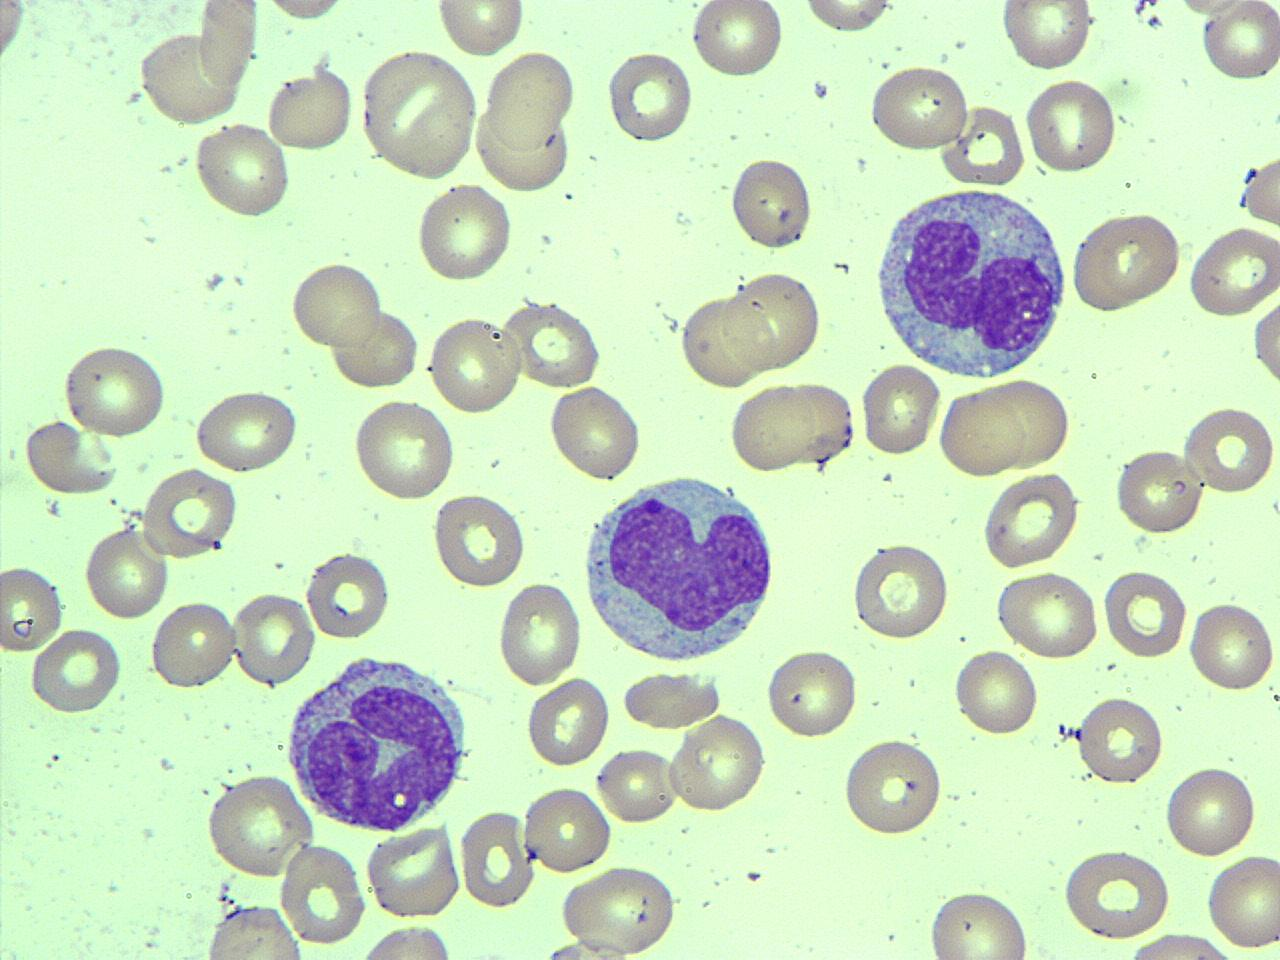RBC: (358, 45, 480, 182), (1069, 208, 1185, 316), (725, 378, 855, 474), (205, 770, 316, 881), (349, 396, 459, 504), (558, 862, 680, 956), (59, 341, 171, 439), (1059, 844, 1173, 940), (849, 538, 952, 642), (135, 28, 244, 127), (722, 268, 824, 372), (412, 182, 516, 284), (666, 711, 768, 816), (842, 736, 946, 838), (978, 469, 1082, 570), (427, 312, 526, 418), (545, 382, 647, 484), (190, 119, 293, 220), (495, 577, 586, 689), (480, 47, 577, 152), (990, 570, 1101, 659), (1022, 74, 1118, 177), (431, 488, 530, 588), (139, 464, 240, 562), (865, 63, 973, 153), (365, 820, 463, 920), (1163, 760, 1261, 860), (190, 387, 303, 473), (764, 644, 862, 742), (502, 297, 605, 390), (277, 841, 368, 946), (263, 55, 357, 156), (603, 46, 695, 146), (1185, 223, 1280, 320), (303, 546, 396, 644), (1185, 596, 1277, 696), (1182, 401, 1276, 498), (287, 258, 385, 351), (472, 105, 572, 194), (80, 524, 170, 622), (1075, 692, 1167, 788), (148, 596, 238, 694), (728, 153, 816, 252), (858, 358, 944, 459), (27, 626, 122, 718), (230, 588, 316, 688), (936, 384, 1025, 481), (524, 673, 612, 770), (520, 784, 613, 875), (1113, 445, 1205, 536), (951, 644, 1040, 740), (984, 376, 1074, 469), (1101, 566, 1189, 659), (678, 294, 766, 389), (458, 807, 536, 910), (926, 886, 1036, 959), (22, 416, 119, 498), (1203, 848, 1279, 952), (688, 0, 786, 80), (938, 101, 1028, 187), (328, 308, 420, 388), (594, 744, 682, 825), (996, 1, 1096, 72), (198, 899, 308, 960), (0, 560, 68, 658), (620, 668, 725, 731), (1199, 2, 1279, 84), (196, 1, 261, 89), (432, 0, 528, 59), (1114, 928, 1250, 959), (355, 922, 462, 958), (1239, 148, 1280, 228), (800, 0, 893, 35), (1249, 290, 1279, 397), (260, 0, 356, 25), (0, 0, 29, 80)
WBC: (868, 176, 1076, 384), (577, 465, 787, 670), (279, 648, 476, 832)
